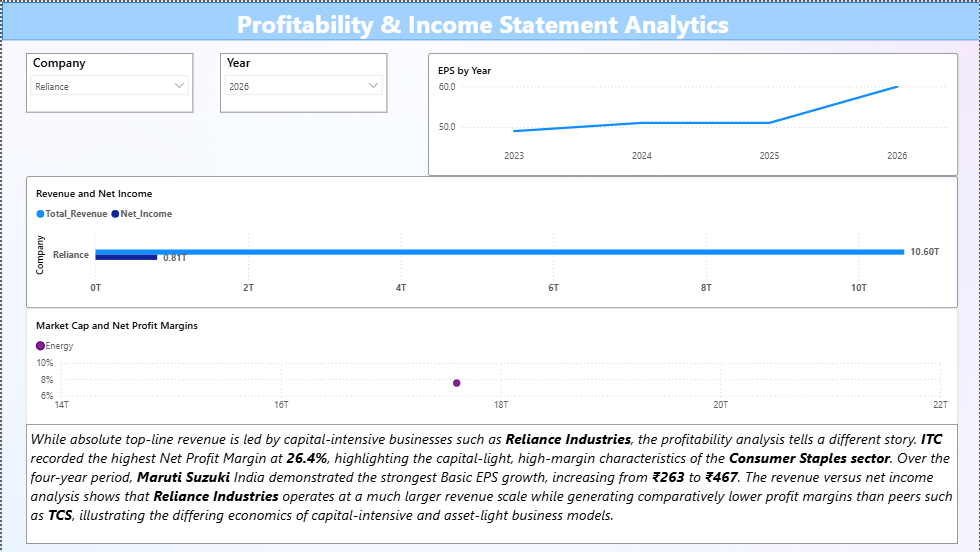

This screenshot's page, from the dashboard's own definition file:
{"tool":"powerbi","page":{"name":"Page 3","canvas":[1280,720],"ordinal":2},"visuals":[{"type":"clusteredBarChart","title":"Revenue and Net Income","fields":{"Category":["Dim_Company.Company"],"Y":["Income_Statements.Total_Revenue","Income_Statements.Net_Income"]},"box":[31.7,227.5,1219.7,172.8],"z":0},{"type":"lineChart","title":"EPS by Year","fields":{"Category":["Dim_Year.Year"],"Y":["Income_Statements.Avg EPS"]},"box":[557.3,66.2,694.1,161.3],"z":1000},{"type":"slicer","fields":{"Values":["Dim_Company.Company"]},"box":[31.7,66.2,218.9,77.8],"z":2000},{"type":"scatterChart","title":"Market Cap and Net Profit Margins","fields":{"Category":["Dim_Company.Company"],"Series":["Industry_company.Industry"],"X":["Market_Cap.Total Market Cap"],"Y":["Market_Cap.Net Profit Margin"]},"box":[31.7,400.3,1219.7,152.6],"z":3000},{"type":"shape","box":[0,0,1280.2,50.4],"z":4000},{"type":"slicer","fields":{"Values":["Dim_Year.Year"]},"box":[285.1,66.2,218.9,77.8],"z":5000},{"type":"textbox","box":[302.5,0,679.2,54.2],"z":6000},{"type":"textbox","box":[31.7,553,1219.7,157],"z":7000}]}

Visuals, with their boxes in screenshot pixels (x1, y1, x2, y2), scaled from the page's 1280x720 canvas onto the 980x552 screenshot:
"Revenue and Net Income" clusteredBarChart: bbox(24, 174, 958, 307)
"EPS by Year" lineChart: bbox(427, 51, 958, 174)
slicer - Dim_Company.Company: bbox(24, 51, 192, 110)
"Market Cap and Net Profit Margins" scatterChart: bbox(24, 307, 958, 424)
shape: bbox(0, 0, 979, 39)
slicer - Dim_Year.Year: bbox(218, 51, 386, 110)
textbox: bbox(232, 0, 752, 42)
textbox: bbox(24, 424, 958, 544)
